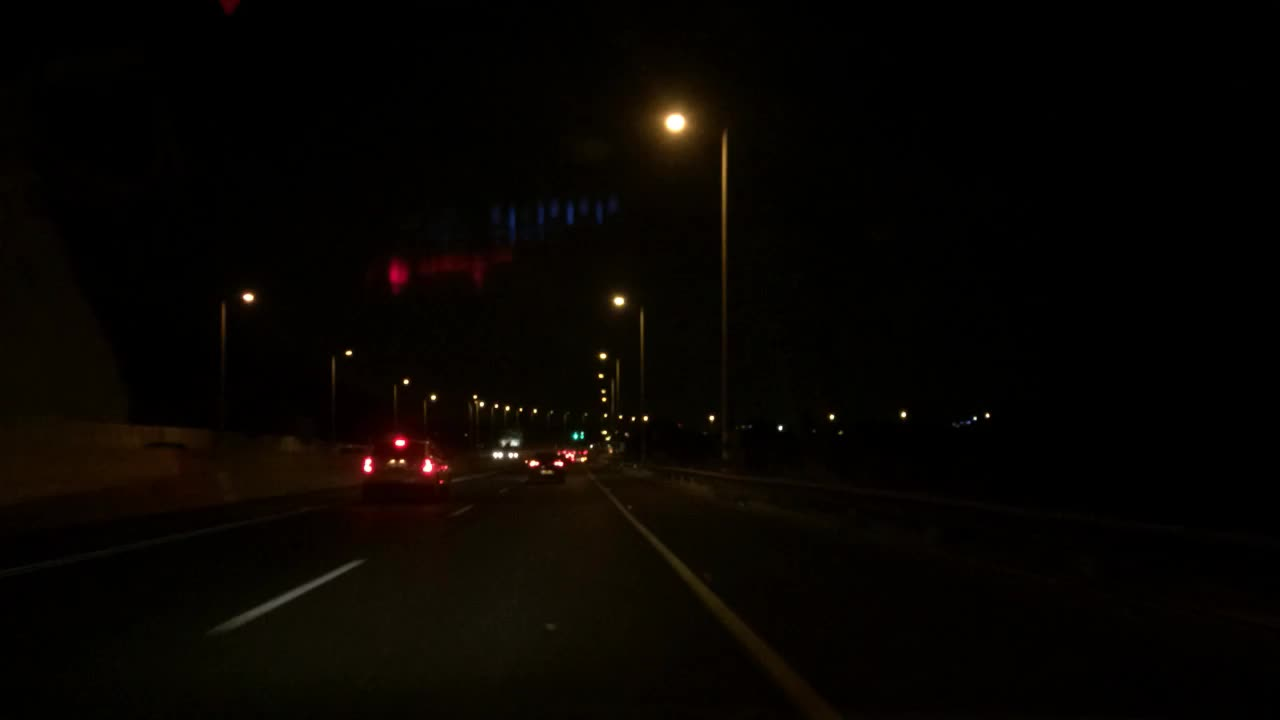car: (360, 431, 452, 492), (523, 450, 566, 484), (495, 440, 519, 458), (563, 445, 586, 463)
